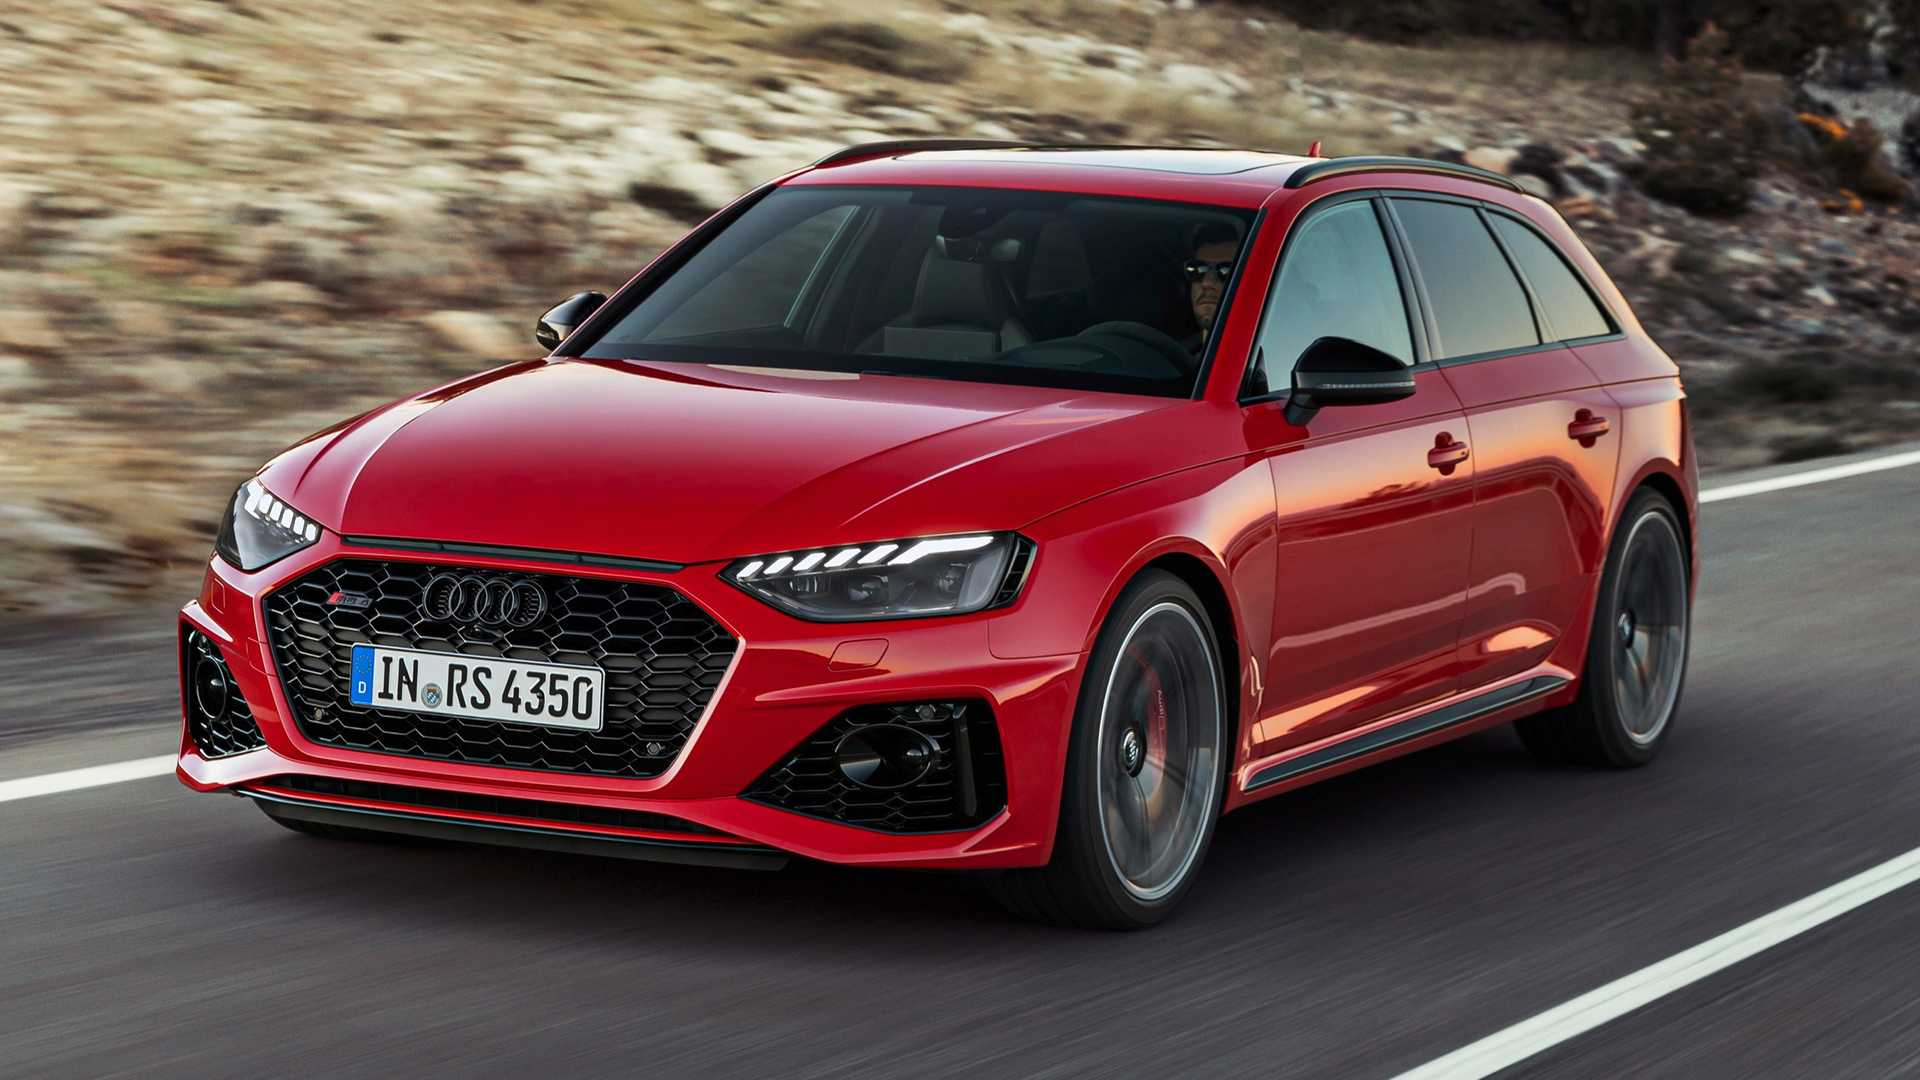car: (177, 138, 1698, 934)
